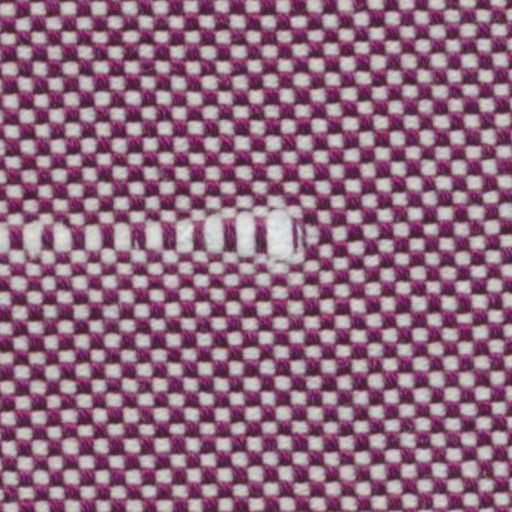DaiSha: (8, 190, 321, 282)
